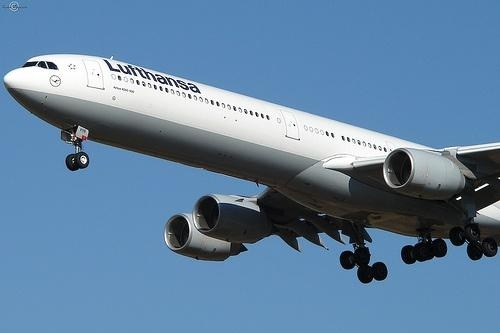aeroplane: (4, 52, 500, 286)
